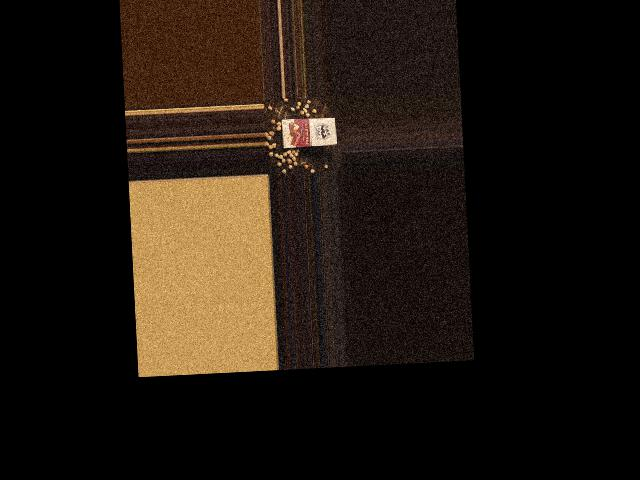chocolate: (279, 115, 338, 151)
